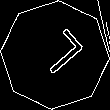L_SW: (26, 27, 84, 83)
